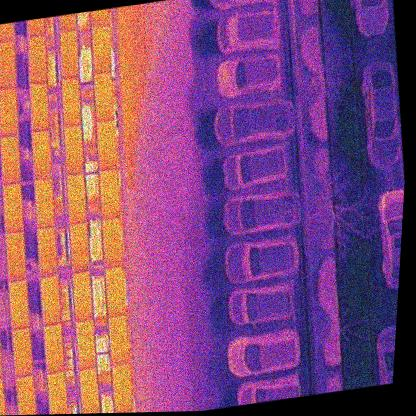Normal: (25, 82, 54, 132), (31, 177, 58, 230), (0, 183, 27, 236), (40, 322, 67, 375), (2, 231, 30, 282), (60, 123, 87, 175), (98, 217, 125, 269), (93, 119, 119, 172), (28, 130, 55, 181), (38, 274, 65, 325), (9, 327, 36, 378), (71, 319, 98, 370), (108, 362, 135, 413), (56, 28, 83, 79), (24, 34, 51, 85), (106, 313, 132, 365), (57, 76, 84, 126), (63, 174, 90, 224), (69, 271, 96, 321), (5, 279, 32, 329), (102, 266, 129, 316), (91, 71, 117, 122), (87, 23, 113, 74), (0, 133, 25, 186), (34, 227, 61, 276), (96, 167, 121, 219), (66, 222, 92, 272), (76, 366, 102, 414), (0, 84, 21, 138), (44, 372, 70, 414), (13, 375, 40, 415), (0, 38, 19, 87)
